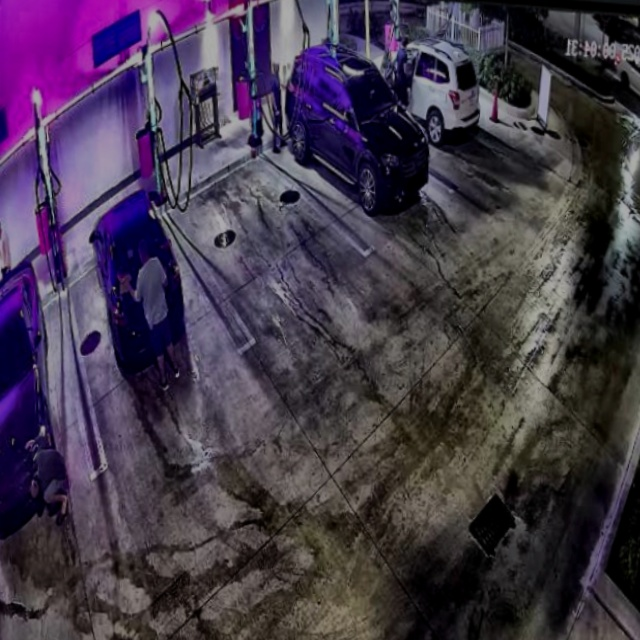Car: (277, 41, 438, 216), (81, 187, 194, 371)
